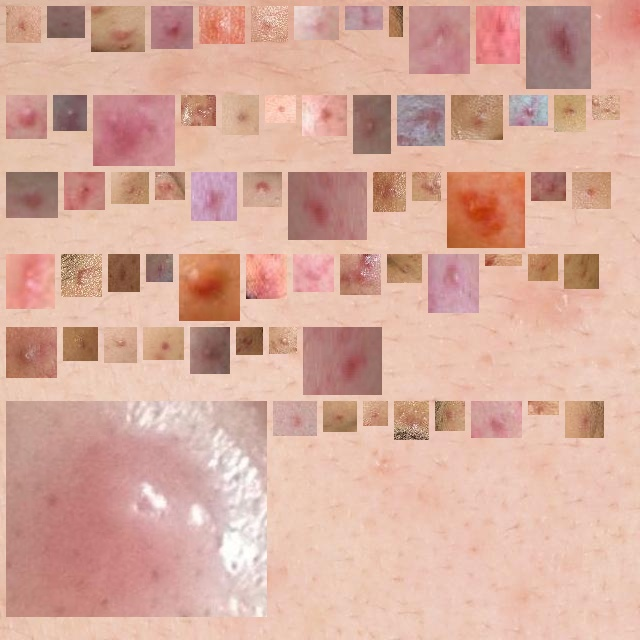papule: (14, 409, 259, 609), (455, 180, 517, 240), (101, 103, 167, 158), (534, 14, 583, 81), (296, 180, 359, 232), (311, 335, 374, 387), (417, 14, 462, 66), (187, 262, 232, 313), (436, 262, 471, 305), (14, 262, 47, 301), (14, 335, 49, 370), (484, 14, 512, 56), (14, 180, 50, 212), (99, 14, 137, 44), (405, 103, 437, 138), (459, 103, 495, 132), (199, 180, 229, 213), (361, 103, 383, 146), (198, 335, 222, 366), (479, 409, 514, 430), (310, 103, 339, 128), (254, 262, 279, 291), (159, 14, 185, 41), (14, 103, 39, 131), (69, 262, 94, 289), (207, 14, 237, 36), (348, 262, 373, 287), (72, 180, 97, 202), (301, 262, 326, 284), (281, 409, 309, 428), (302, 14, 331, 32), (230, 103, 251, 127), (580, 180, 603, 201), (573, 409, 596, 430), (251, 180, 274, 199), (402, 409, 421, 432), (151, 335, 176, 352), (259, 14, 280, 34), (381, 180, 398, 204), (14, 14, 33, 35), (572, 262, 591, 281), (61, 103, 79, 123), (55, 14, 77, 30), (119, 180, 141, 196), (116, 262, 132, 284), (517, 103, 540, 118), (71, 335, 90, 353), (112, 335, 129, 355), (562, 103, 578, 124), (189, 103, 208, 118), (331, 409, 349, 424), (539, 180, 558, 193), (395, 262, 414, 275), (443, 409, 457, 423), (273, 103, 288, 115), (353, 14, 375, 22), (420, 180, 433, 193), (163, 180, 177, 192), (536, 262, 550, 273), (154, 262, 165, 274), (244, 335, 255, 347), (277, 335, 289, 346), (600, 103, 612, 112), (371, 409, 380, 418), (536, 409, 551, 414)
